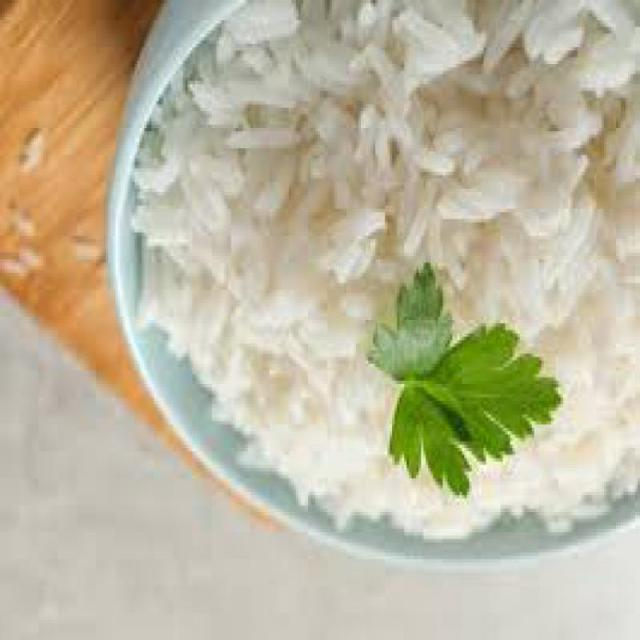nasi_putih: (132, 3, 638, 546)
